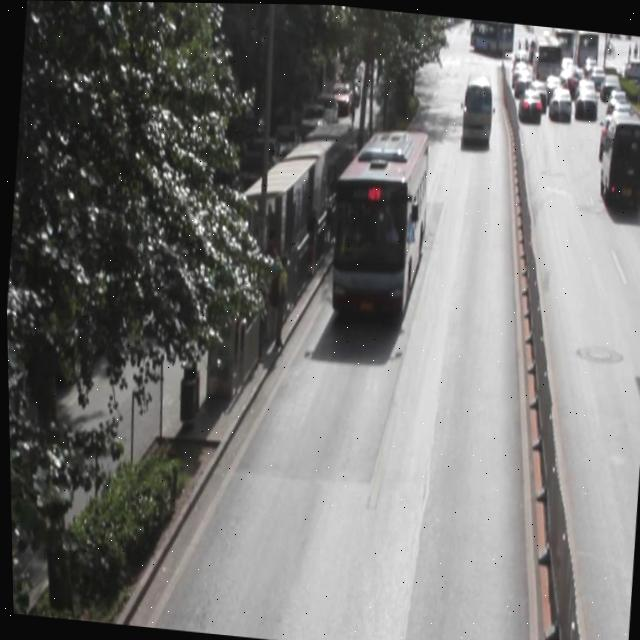truck: (593, 111, 640, 208)
van: (322, 122, 431, 325)
